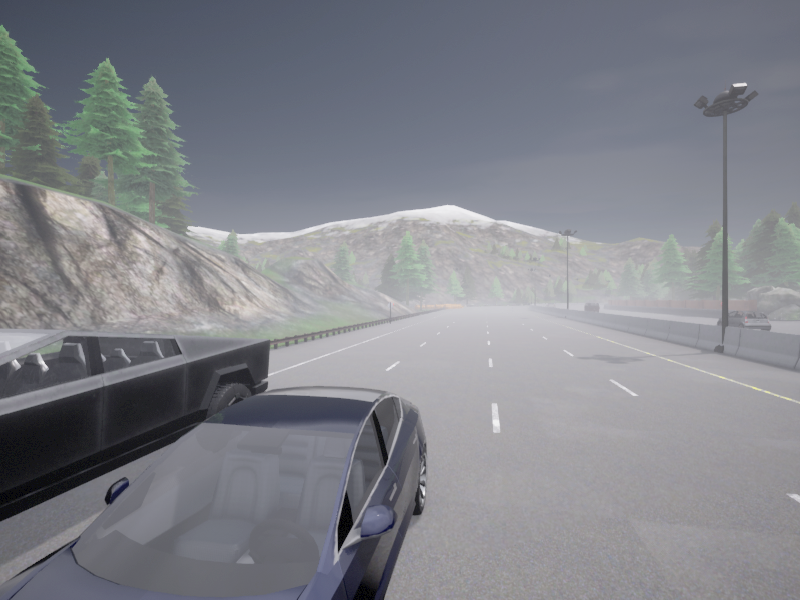vehicle: (0, 386, 427, 599), (0, 329, 269, 521), (717, 311, 770, 330), (584, 302, 598, 311), (546, 303, 555, 307)
